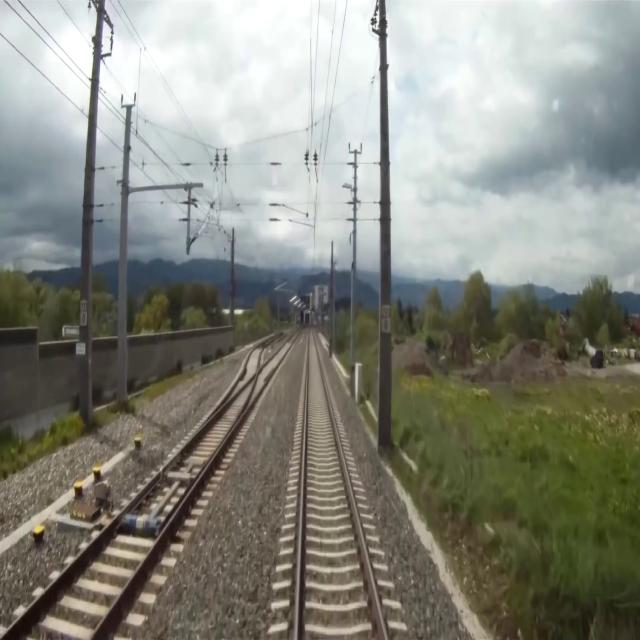rail-track: (5, 379, 253, 639), (298, 327, 383, 639), (249, 335, 294, 400), (231, 346, 261, 393)
